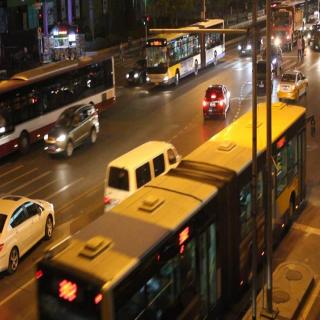BigCar: (39, 104, 309, 320), (0, 53, 116, 151), (139, 16, 234, 87), (269, 1, 305, 49)
Car: (0, 192, 56, 270), (44, 102, 97, 160), (194, 82, 236, 127), (274, 62, 306, 106), (127, 58, 152, 93)
